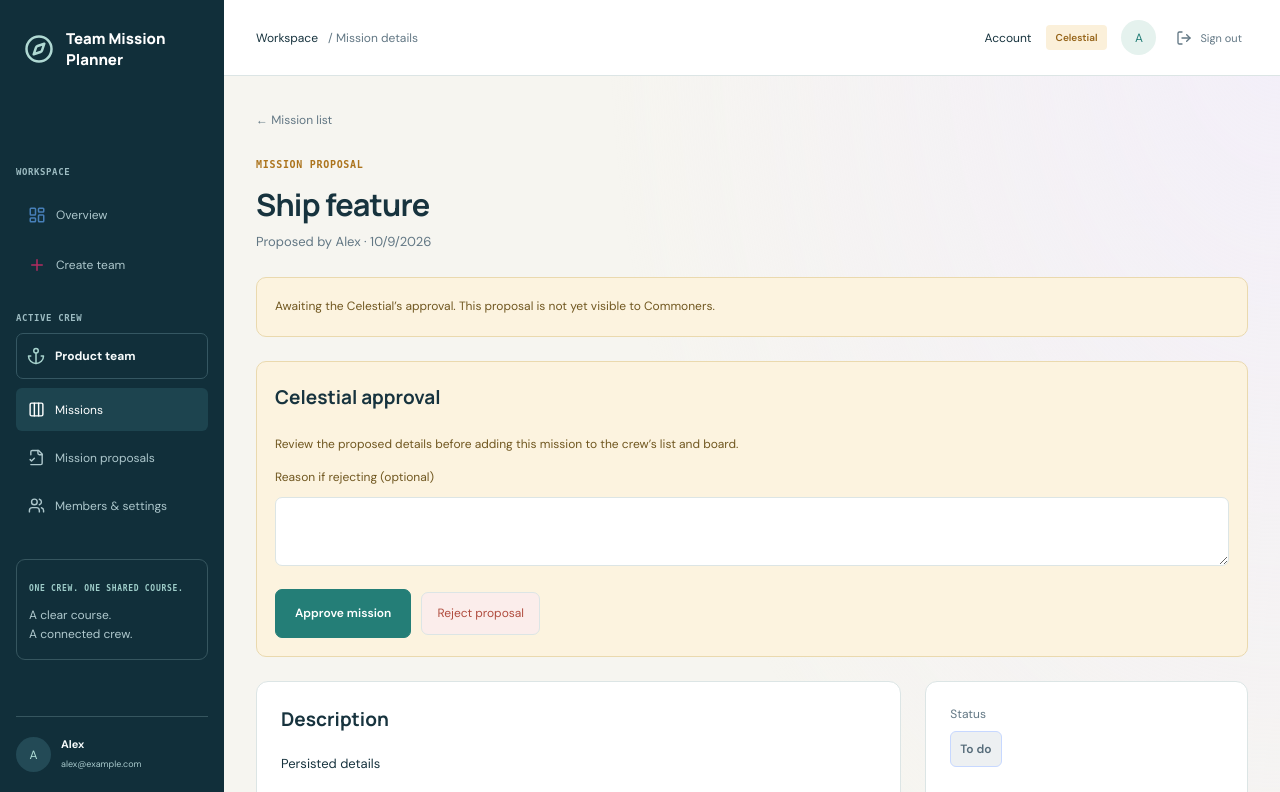
Test case: Task workflows › lets the Celestial reject with a reason and keeps discussion hidden
Type "Clarify the goal" into the text box labelled "Reason if rejecting (optional)" at (752, 532), box [275,497,1229,566]
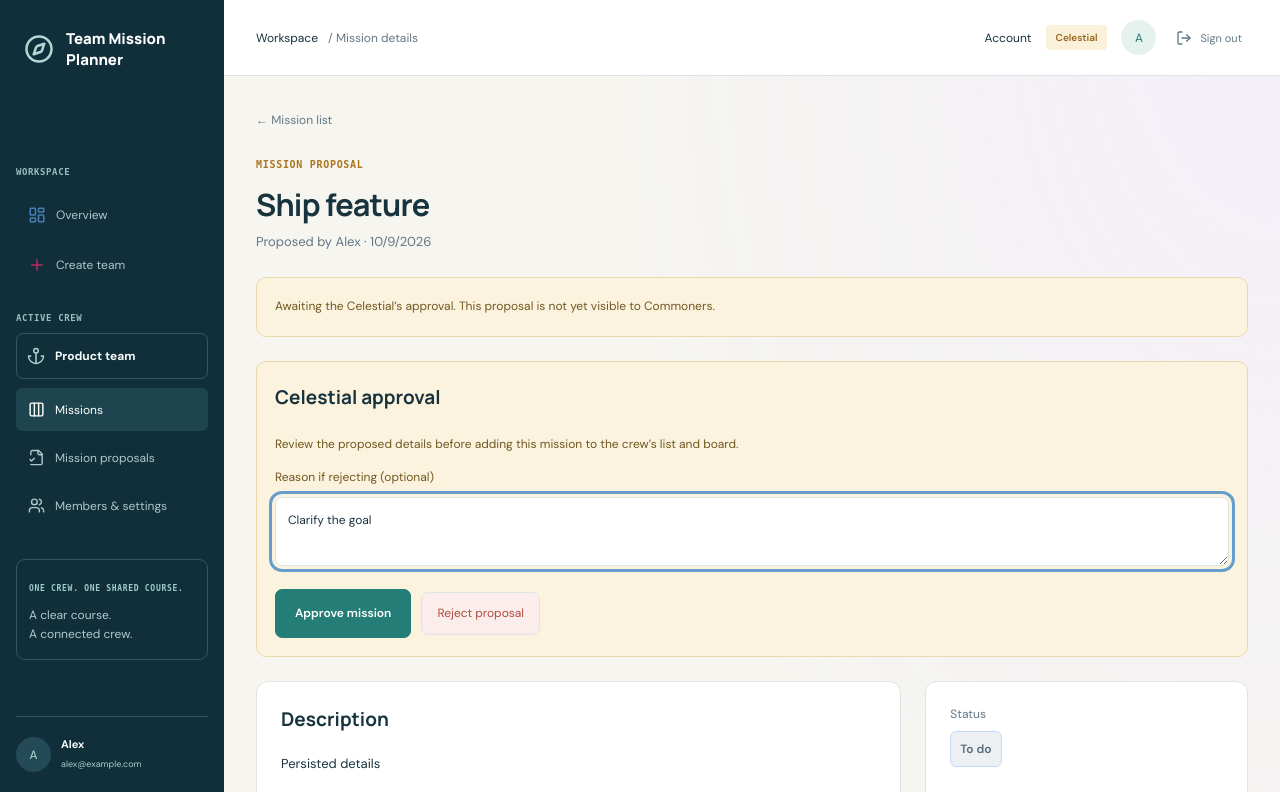
Click the button "Reject proposal" at (481, 614), box [421,592,540,635]
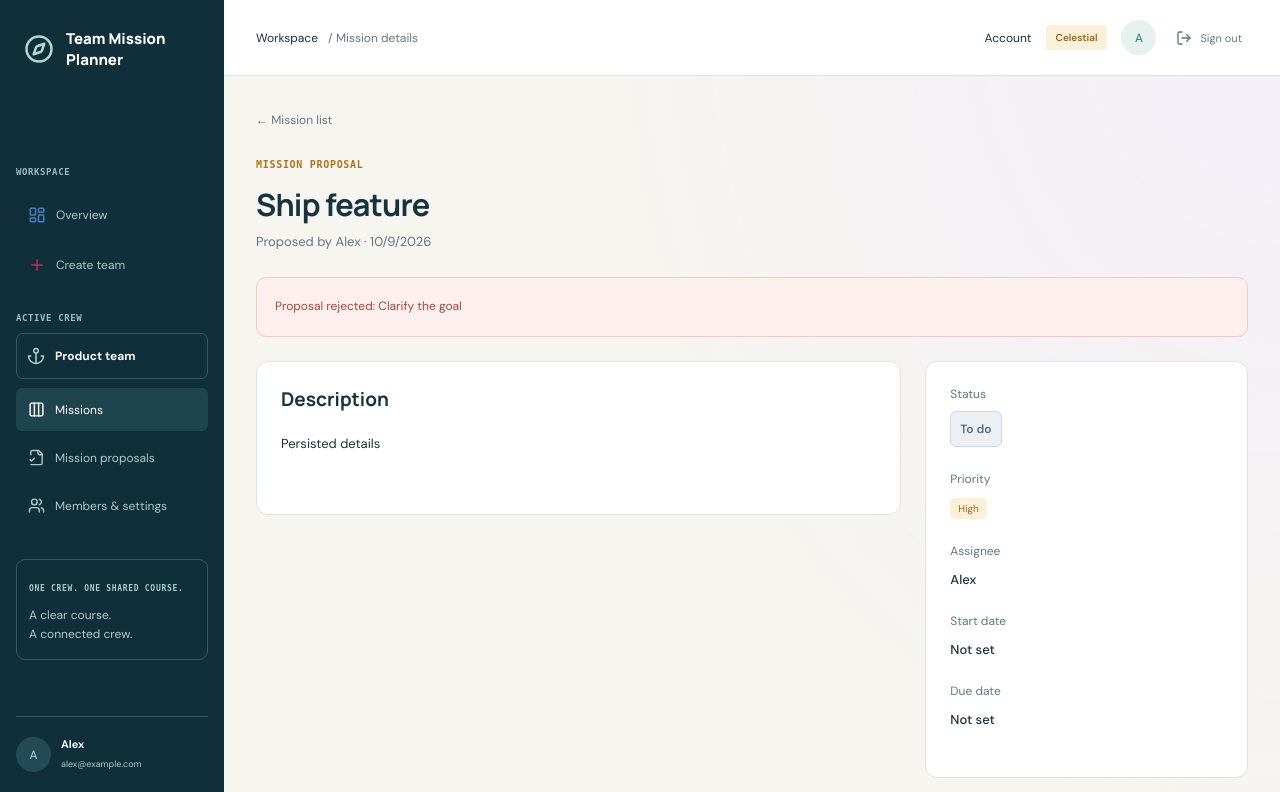
Expected: the text "Proposal rejected: Clarify the goal" is shown, [256,277,1248,337]
